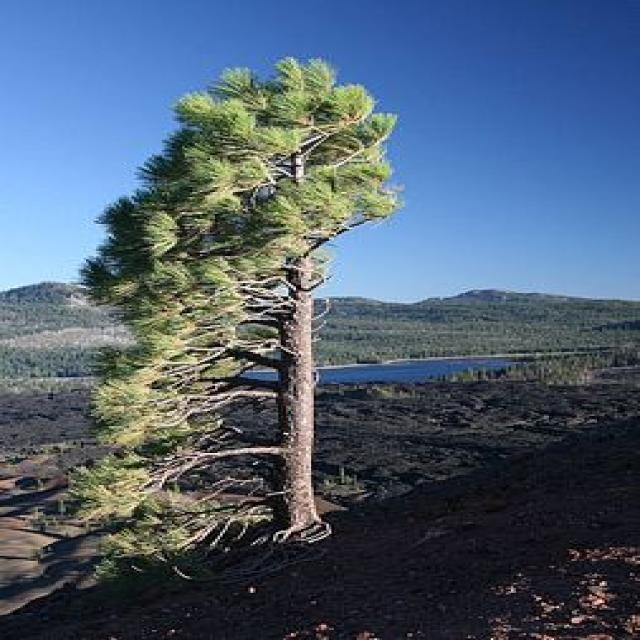Pinus jeffreyi: (42, 47, 423, 588)
